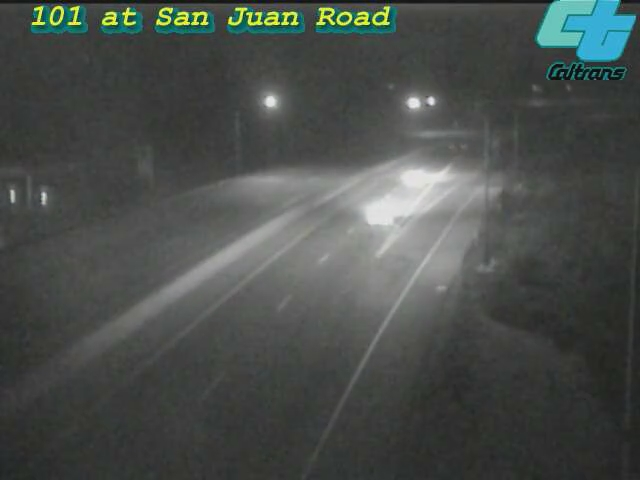vehicle: (379, 137, 459, 217), (339, 175, 419, 255)
